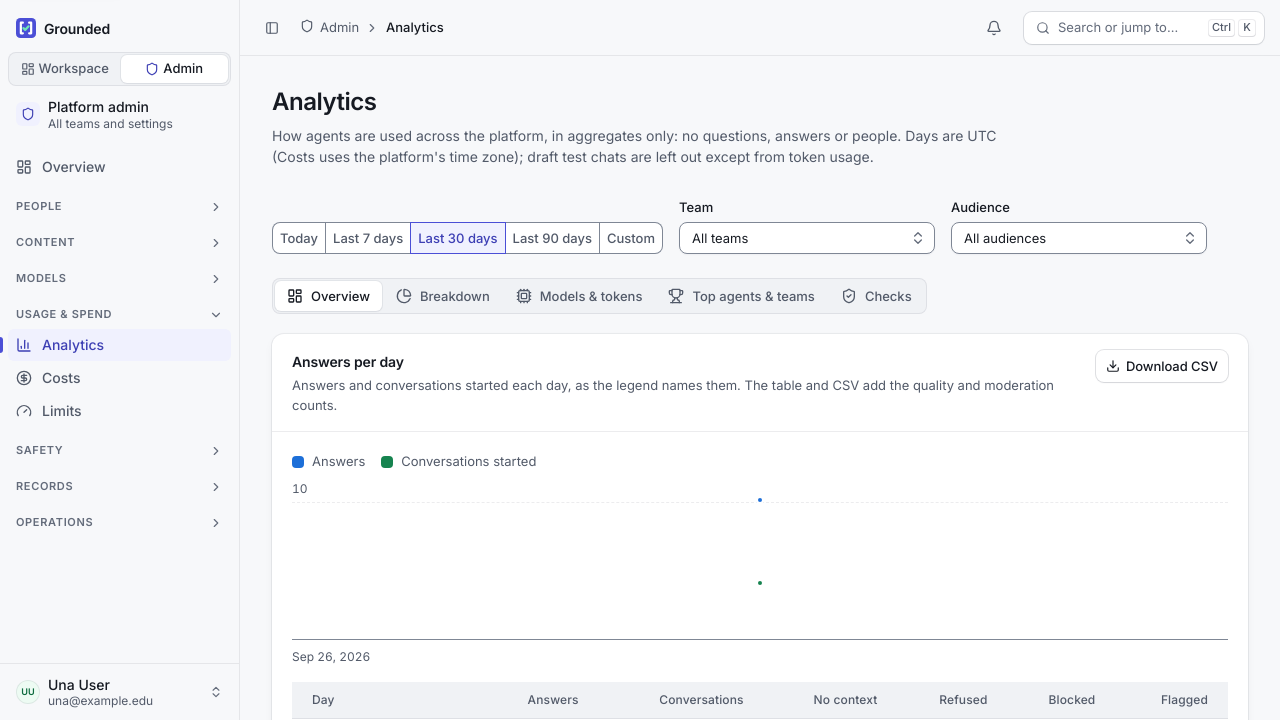
Scenario: admin Analytics › Checks › moves the SystemOne cards to Checks and puts the chart first on Overview
Expected: the element "Passage judging (SystemOne)" is not shown
Expected: the element "Citation checks (SystemOne)" is not shown
Step 1. Click the tab "Checks" → [876, 296], box top-left (829, 281), bottom-right (924, 311)
(page scrolled)
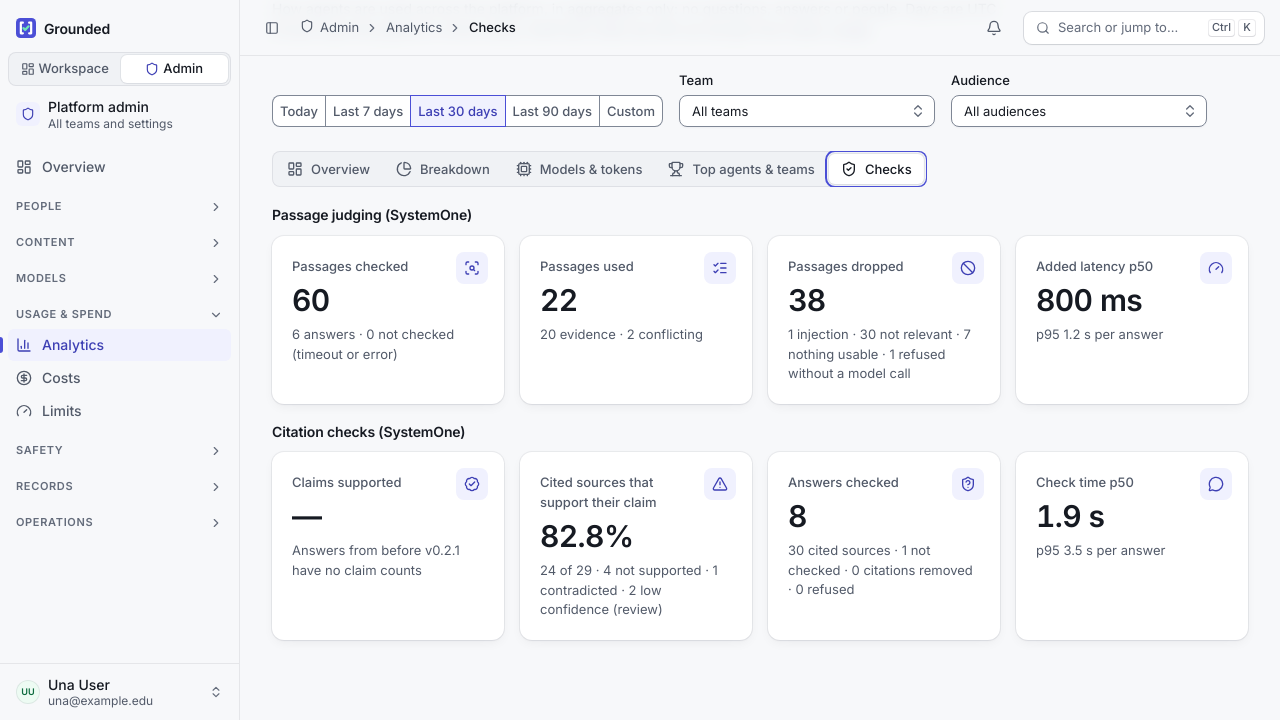
Result: the element "Passage judging (SystemOne)" is shown at top-left (272, 207), bottom-right (1248, 404)
Result: the element "Citation checks (SystemOne)" is shown at top-left (272, 424), bottom-right (1248, 640)
